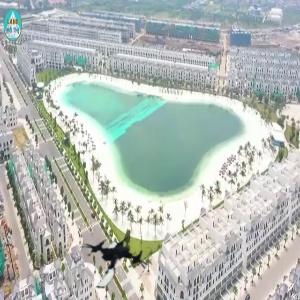drone: (74, 227, 147, 300)
